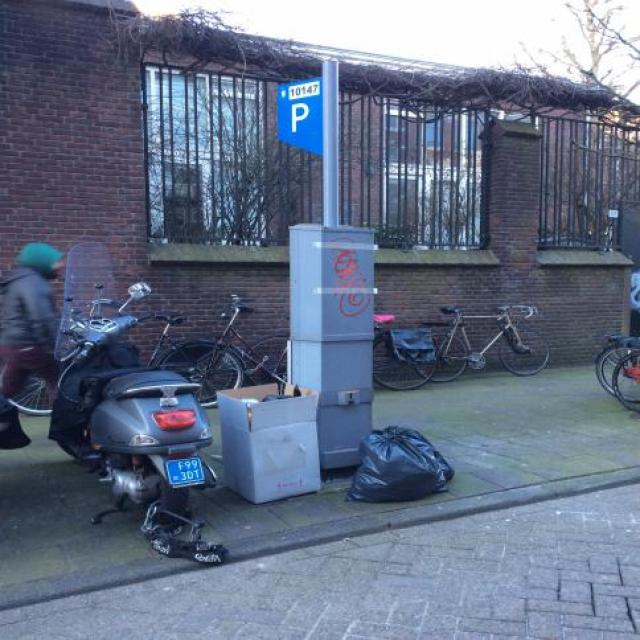Anorganik: (341, 420, 458, 512)
